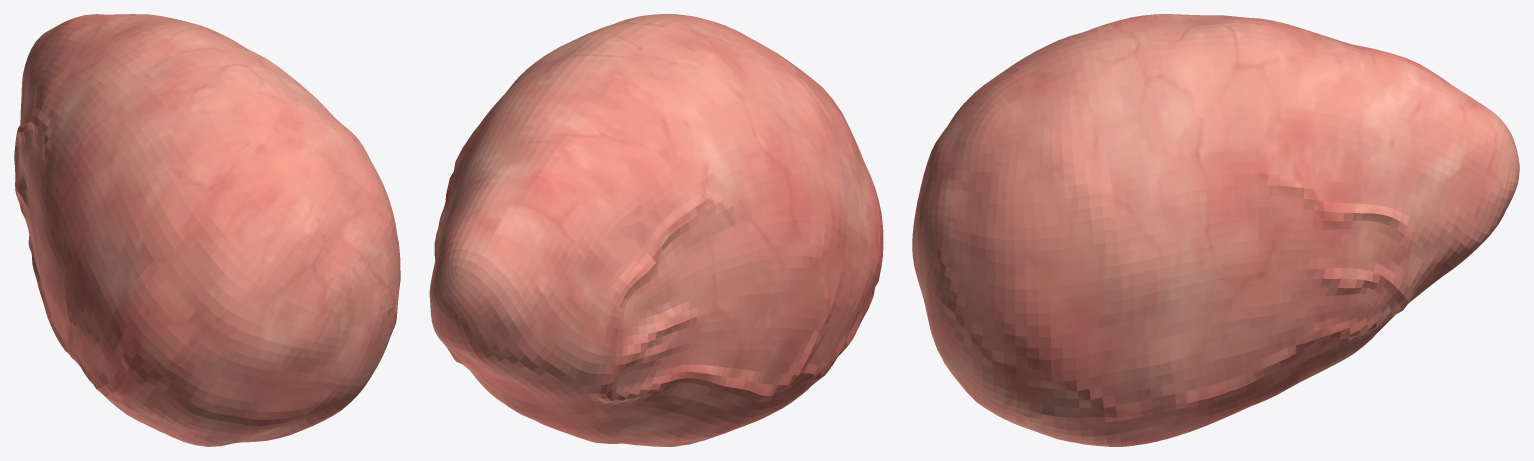
Rendered from Bladder.glb.
The picture shows the model from 3 angles, left to right: view 1: azimuth 30°, elevation 25°; view 2: azimuth 150°, elevation 25°; view 3: azimuth 270°, elevation 25°; orthographic projection. The views are drawn at different scales.
Parts seen in each view (by area): view 1: BladderDynameshLow:ZBrushPolyMesh3D; view 2: BladderDynameshLow:ZBrushPolyMesh3D; view 3: BladderDynameshLow:ZBrushPolyMesh3D.
Part boxes in pixels (left/top/right/bottom): BladderDynameshLow:ZBrushPolyMesh3D: left=14, top=14, right=400, bottom=446; BladderDynameshLow:ZBrushPolyMesh3D: left=429, top=14, right=883, bottom=446; BladderDynameshLow:ZBrushPolyMesh3D: left=912, top=14, right=1519, bottom=446.
Size of the model in its own units: 22.78 by 26.23 by 36.33.
1 material, 1 textured.
